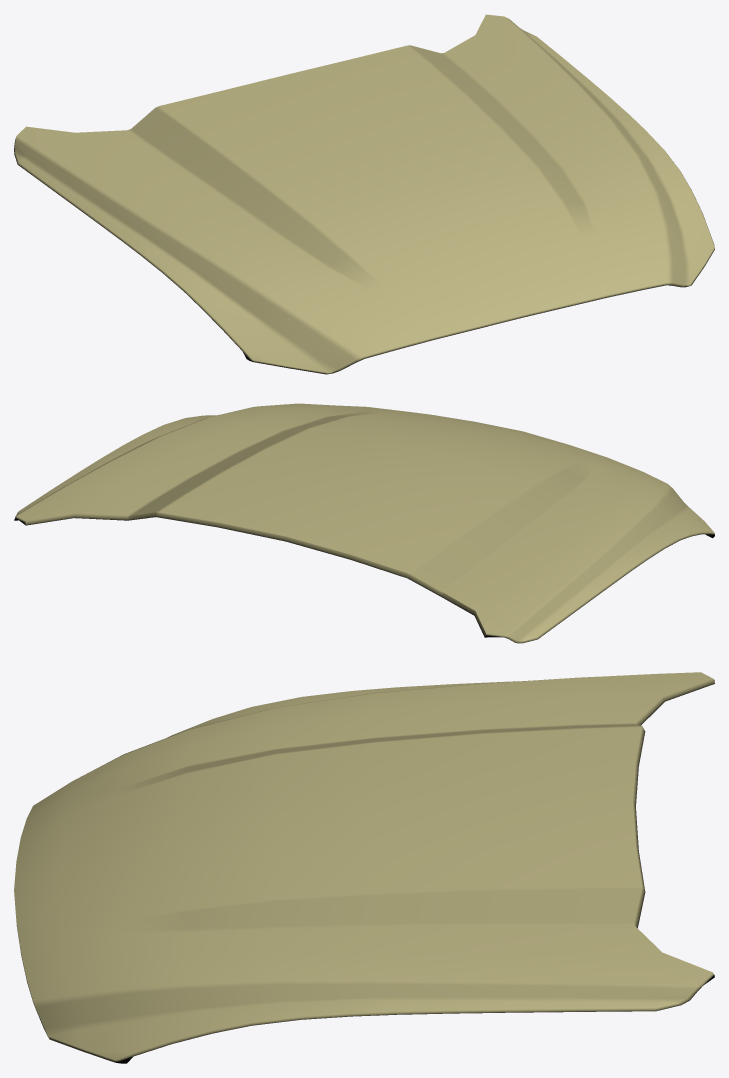
Rendered from Mustang16_Hood_04_Duco.fbx.
The picture shows the model from 3 angles, top to bottom: view 1: azimuth 30°, elevation 25°; view 2: azimuth 150°, elevation 25°; view 3: azimuth 270°, elevation 25°; orthographic projection. The views are drawn at different scales.
Visible parts, largest first — view 1: Mustang16_Hood_04_Duco; view 2: Mustang16_Hood_04_Duco; view 3: Mustang16_Hood_04_Duco.
Part boxes in pixels (box(x1,y1,x2,y2)): Mustang16_Hood_04_Duco: box(14, 14, 714, 374); Mustang16_Hood_04_Duco: box(14, 403, 714, 643); Mustang16_Hood_04_Duco: box(14, 672, 714, 1063).
Size of the model in its own units: 168 by 28.42 by 149.
